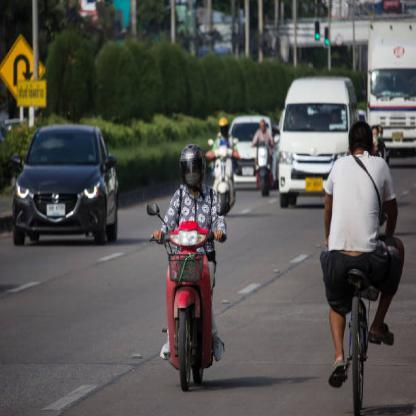Motorcycle: (155, 211, 222, 401)
